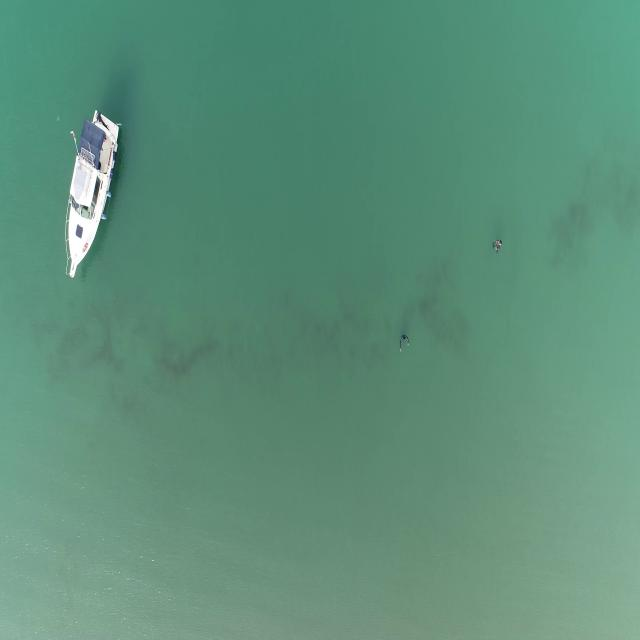boat: (60, 109, 120, 284)
person: (399, 331, 412, 354), (491, 236, 502, 262)
